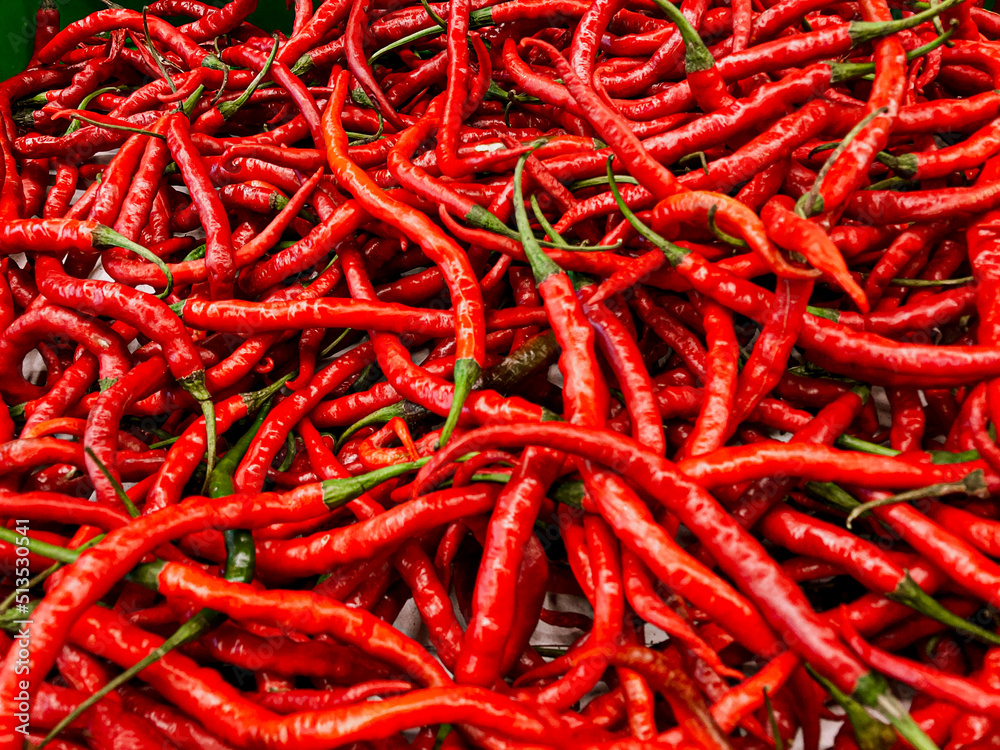Cabai: (243, 154, 814, 659)
